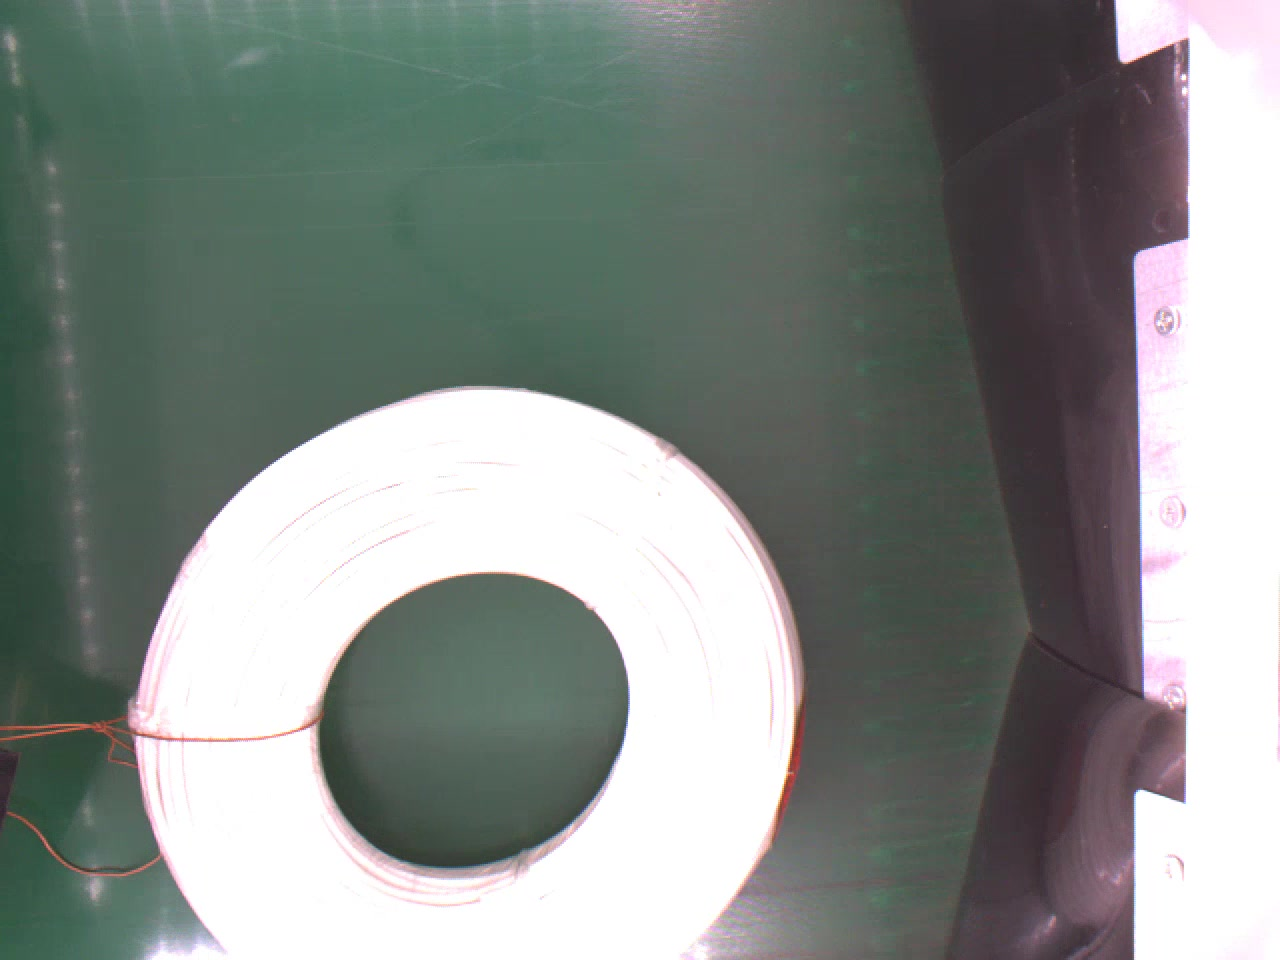white: (138, 384, 811, 950)
